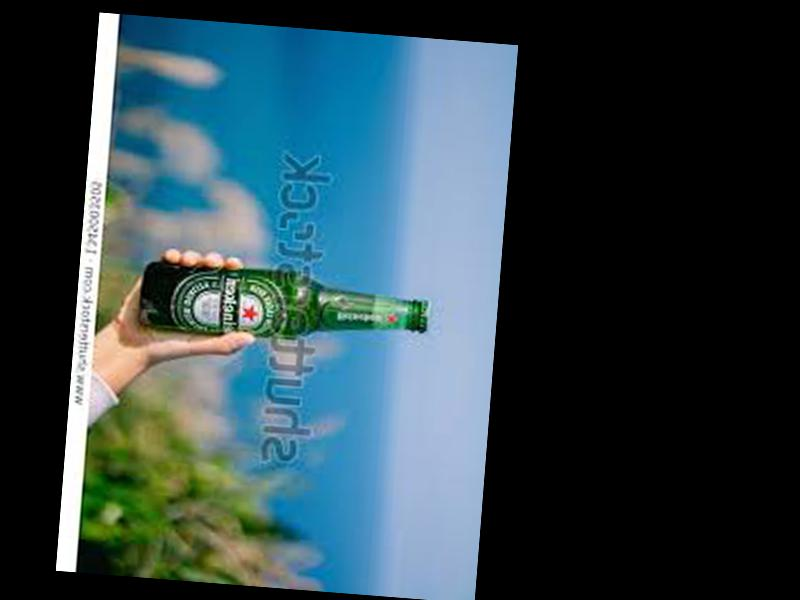Beer: (137, 260, 431, 352)
